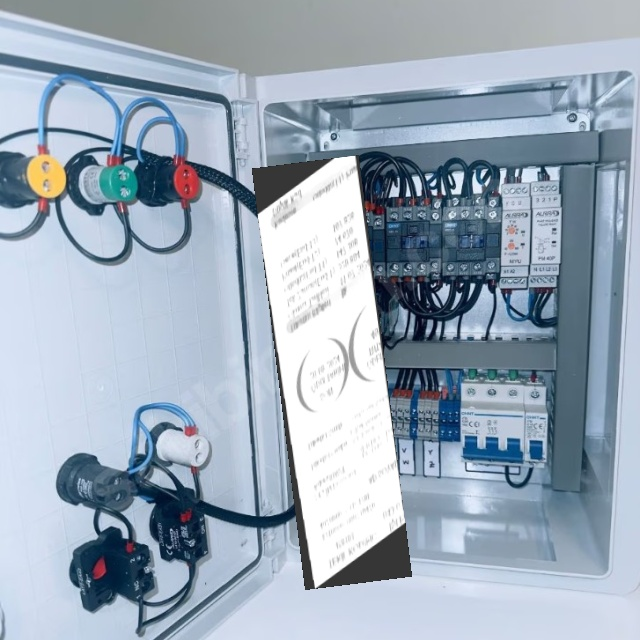electricity-bill: (252, 154, 412, 590)
